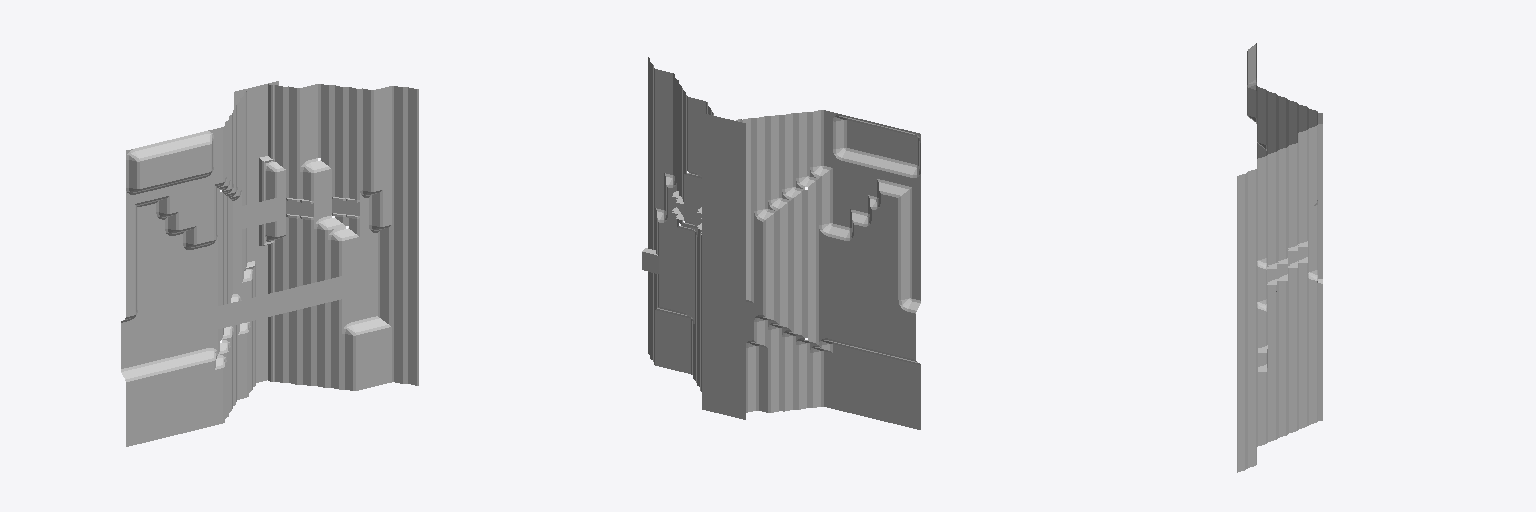
The model's file is Plat_full_10_10.obj.
3 views of the same model, side by side, from view 1: azimuth 30°, elevation 25°; view 2: azimuth 150°, elevation 25°; view 3: azimuth 270°, elevation 25° (orthographic).
Visible parts, largest first — view 1: map; view 2: map; view 3: map.
Part boxes in pixels (x1,y1,x2,y2): map: (121,81,418,446); map: (642,57,920,429); map: (1237,43,1322,472).
Size of the model in its own units: 32 by 32 by 8.5.